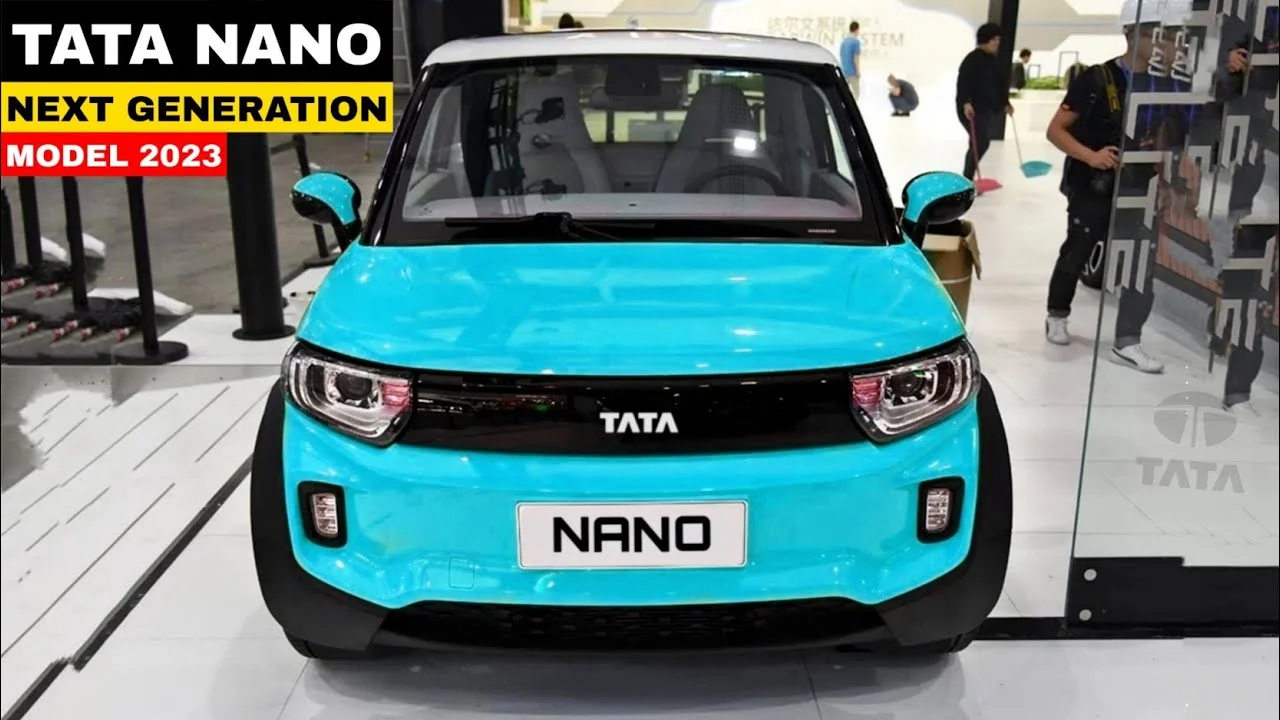Nano: (245, 10, 1016, 659)
